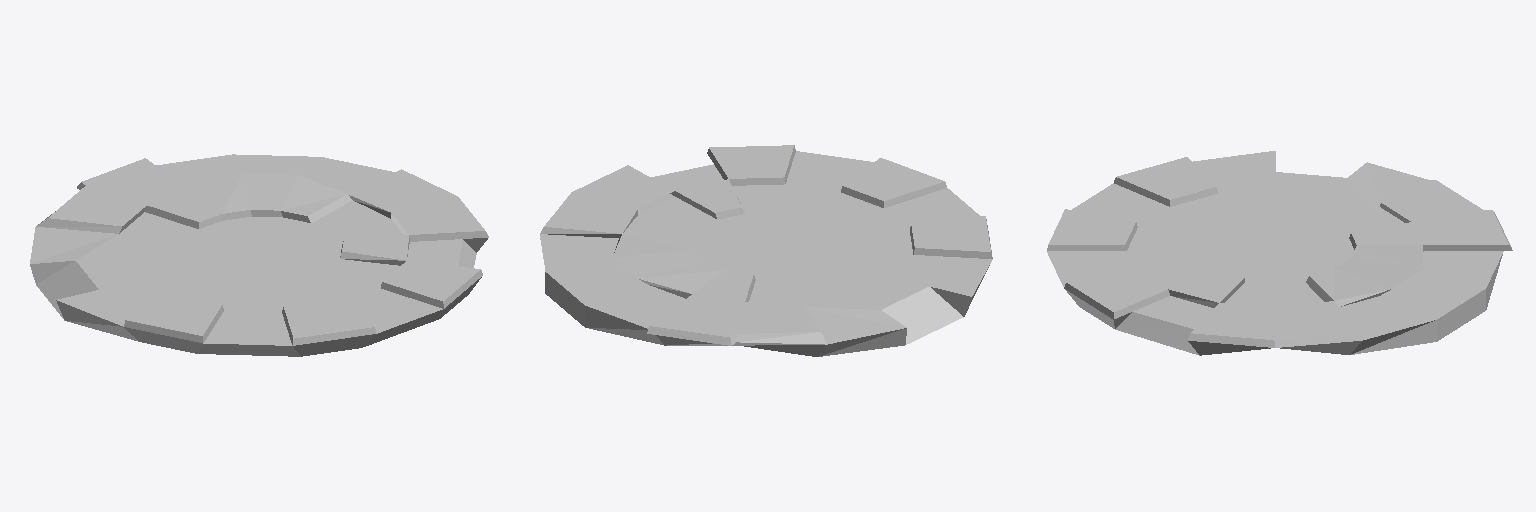
The model's file is Knight_Base.obj.
3 renders of one model, left to right at view 1: azimuth 30°, elevation 25°; view 2: azimuth 150°, elevation 25°; view 3: azimuth 270°, elevation 25°, orthographic.
Visible parts, largest first — view 1: Circle group1; view 2: Circle group1; view 3: Circle group1.
Part boxes in pixels (x1,y1,x2,y2): Circle group1: (30, 154, 488, 356); Circle group1: (540, 145, 992, 356); Circle group1: (1047, 151, 1512, 355).
Bounding box in the file's own units: 2.11 × 0.156 × 2.11.